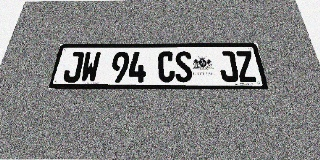4: (128, 52, 146, 82)
9: (110, 52, 130, 82)
C: (158, 51, 175, 82)
J: (62, 52, 85, 82), (218, 51, 239, 82)
S: (175, 51, 193, 82)
W: (79, 52, 101, 82)
Z: (234, 51, 258, 82)
